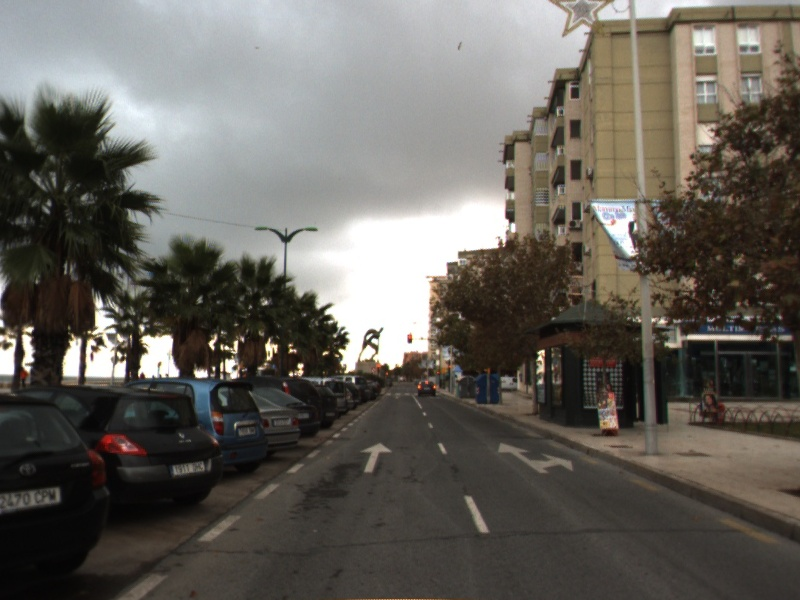STRAIGHT: (359, 441, 394, 474)
STRAIGHT_RIGHT: (497, 441, 574, 475)
